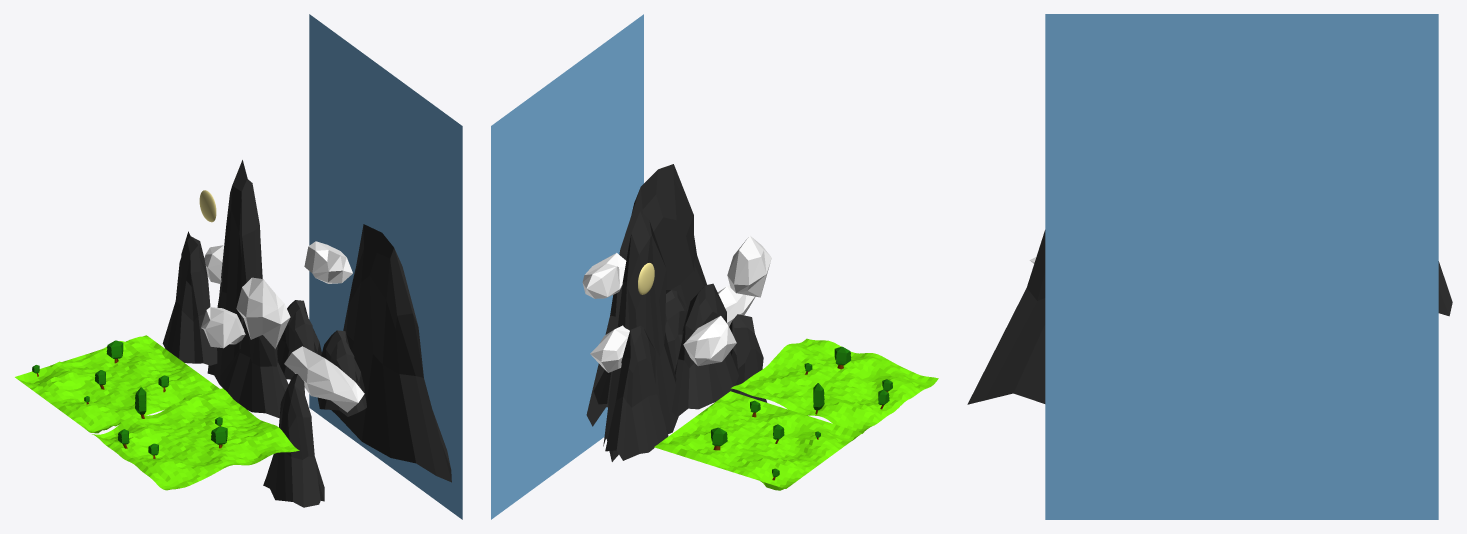
File: Map1.FBX
3 renders of one model, left to right at view 1: azimuth 30°, elevation 25°; view 2: azimuth 150°, elevation 25°; view 3: azimuth 270°, elevation 25°, orthographic. The views are drawn at different scales.
Visible parts, largest first — view 1: Plane003, Box010, Plane002, Plane001, Box003, Box009, Box002, Box006, Box012, Box008, Box001, Box007 (+3 smaller); view 2: Plane003, Plane001, Plane002, Box010, Box003, Box002, Box006, Box008, Box009, Box004, Box011, Box007 (+2 smaller); view 3: Plane003, Box010.
Boxes of the visible parts, x1,y1,x2,y2 form: Plane003: (309,14,462,519); Box010: (331,224,451,482); Plane002: (92,388,299,490); Plane001: (15,335,219,433); Box003: (207,160,262,389); Box009: (263,374,324,507); Box002: (162,231,217,365); Box006: (220,320,288,418); Box012: (284,346,364,412); Box008: (236,277,290,348); Box001: (277,300,321,379); Box007: (317,330,366,416); Plane003: (491,14,643,519); Plane001: (654,391,862,490); Plane002: (731,338,938,433); Box010: (586,164,706,426); Box003: (603,211,678,461); Box002: (605,325,668,460); Box006: (671,283,738,417); Box008: (727,235,771,297); Box009: (729,314,767,402); Box004: (683,316,736,366); Box011: (582,253,626,298); Box007: (665,290,687,366); Plane003: (1045,14,1438,519); Box010: (967,230,1045,404).
Bounding box in the file's own units: 4453 × 5681 × 4941.
